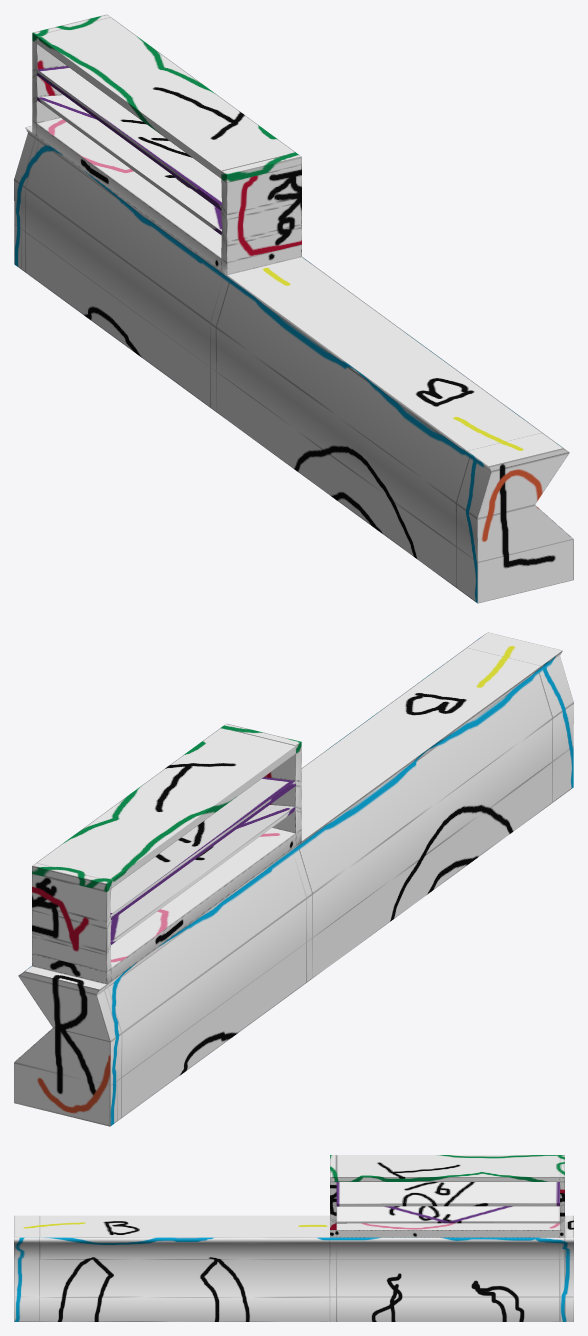
File: Store_Counter_1.fbx
3 views of the same model, one above another, from view 1: azimuth 30°, elevation 25°; view 2: azimuth 150°, elevation 25°; view 3: azimuth 270°, elevation 25° (orthographic). The views are drawn at different scales.
Parts seen in each view (by area): view 1: Store_Counter_1:Counter; view 2: Store_Counter_1:Counter; view 3: Store_Counter_1:Counter.
Part boxes in pixels (bbox=[...]): Store_Counter_1:Counter: bbox=[14, 14, 573, 603]; Store_Counter_1:Counter: bbox=[14, 632, 573, 1126]; Store_Counter_1:Counter: bbox=[14, 1155, 573, 1321].
Size of the model in its own units: 91.76 by 213 by 762.
Materials: 1 (1 with a texture image).
